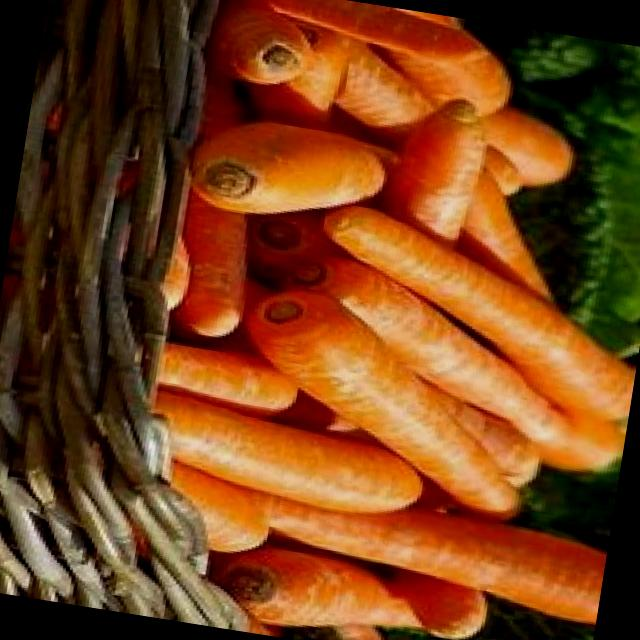carrot: (318, 201, 635, 458), (236, 280, 522, 522), (260, 498, 607, 628), (187, 119, 385, 215)
